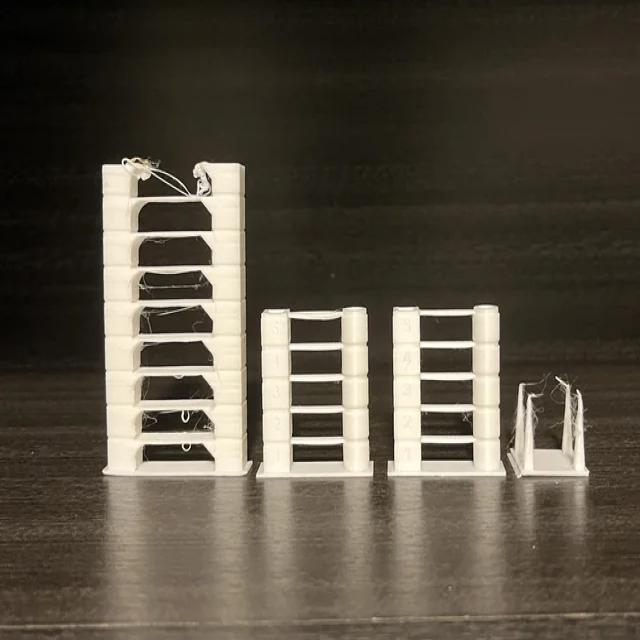Stringing: (134, 394, 215, 434), (136, 266, 212, 300), (531, 372, 562, 448)
